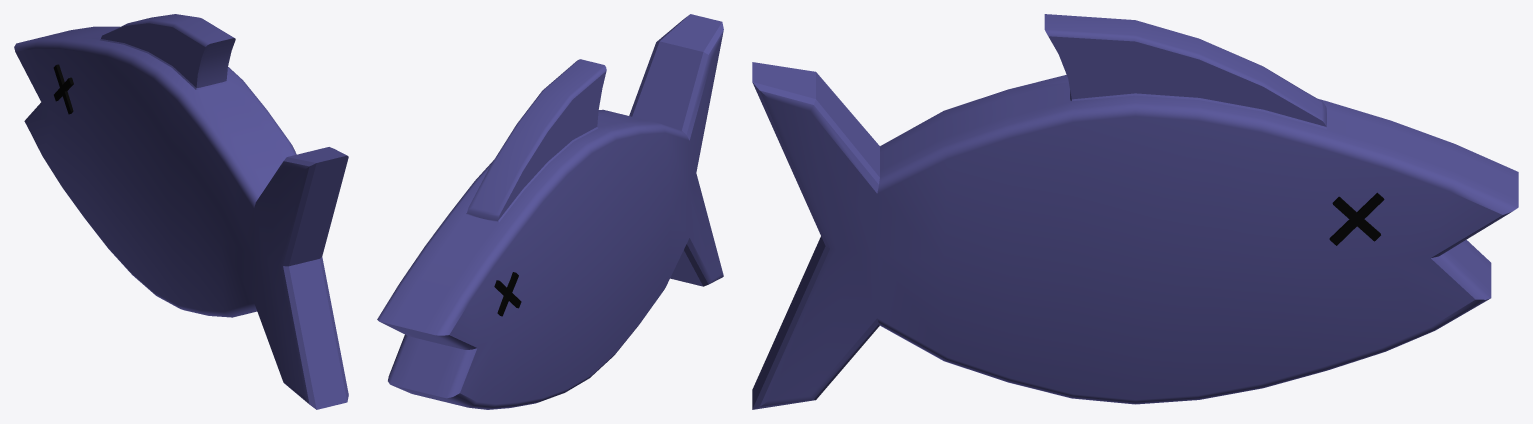
The model's file is fish.fbx.
3 renders of one model, left to right at view 1: azimuth 30°, elevation 25°; view 2: azimuth 150°, elevation 25°; view 3: azimuth 270°, elevation 25°, orthographic. The views are drawn at different scales.
Parts seen in each view (by area): view 1: fishBody, leftEye; view 2: fishBody, leftEye; view 3: fishBody, rightEye.
Boxes of the visible parts, <box> form: fishBody: <box>14,14,348,409</box>; leftEye: <box>53,64,73,114</box>; fishBody: <box>377,14,723,409</box>; leftEye: <box>494,272,521,316</box>; fishBody: <box>752,14,1518,409</box>; rightEye: <box>1329,192,1384,245</box>.
Size of the model in its own units: 0.8622 by 2.55 by 4.68.
